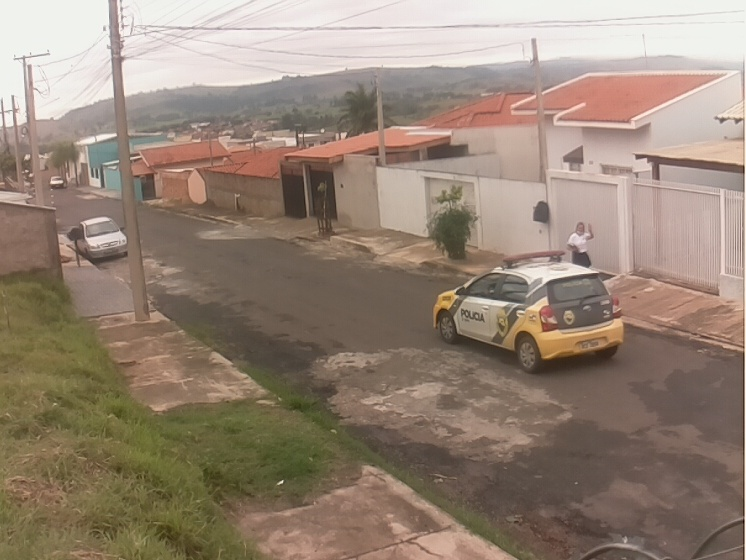person: (566, 221, 595, 271)
